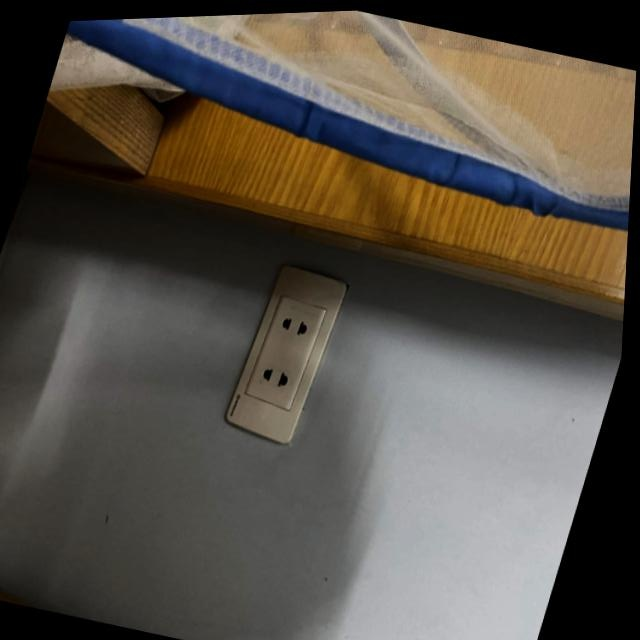outlet: (219, 257, 353, 450)
